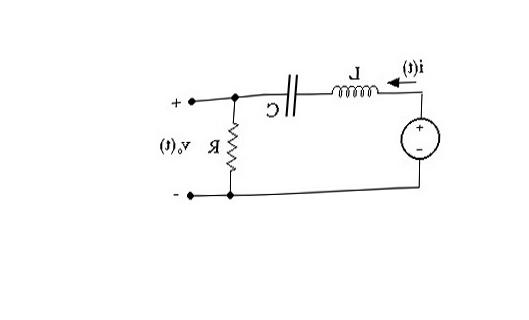Battery: (384, 113, 452, 168)
